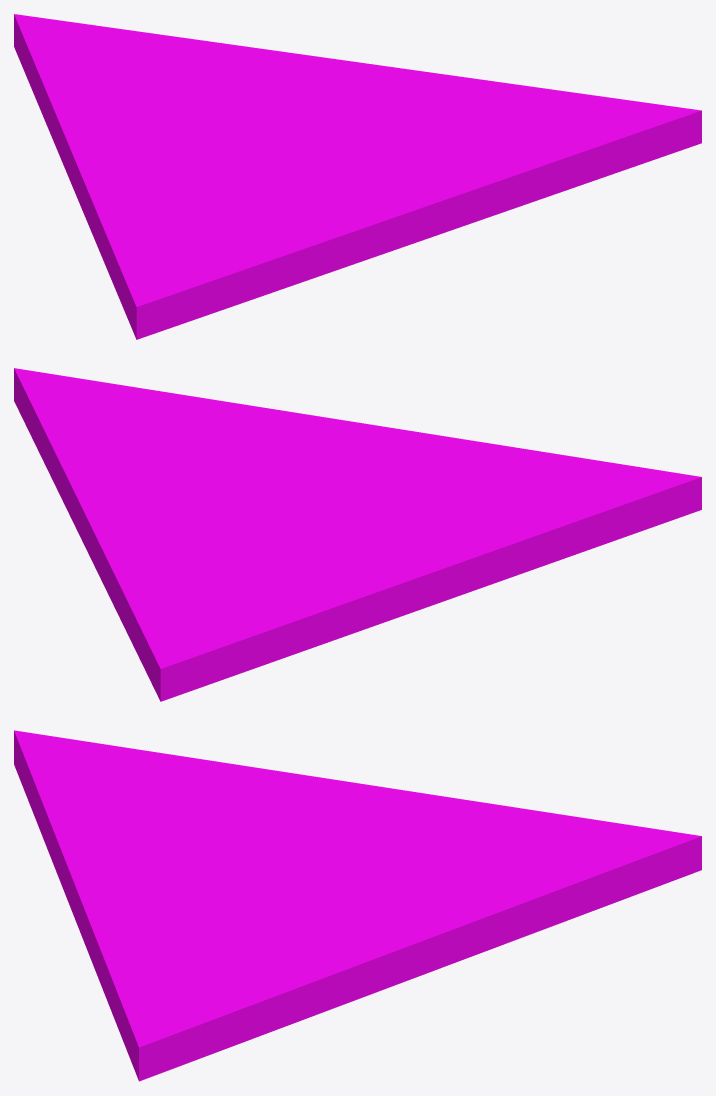
Rendered from fx_glass_shard.glb.
3 renders of one model, top to bottom at view 1: azimuth 30°, elevation 25°; view 2: azimuth 150°, elevation 25°; view 3: azimuth 270°, elevation 25°, orthographic. The views are drawn at different scales.
Visible parts, largest first — view 1: fx_glass_shard__mesh; view 2: fx_glass_shard__mesh; view 3: fx_glass_shard__mesh.
Part boxes in pixels (<box>): fx_glass_shard__mesh: <box>14,14,701,339</box>; fx_glass_shard__mesh: <box>14,368,701,701</box>; fx_glass_shard__mesh: <box>14,730,701,1081</box>.
Bounding box in the file's own units: 0.12 × 0.006 × 0.11.
Materials: 1 (1 with a texture image).
